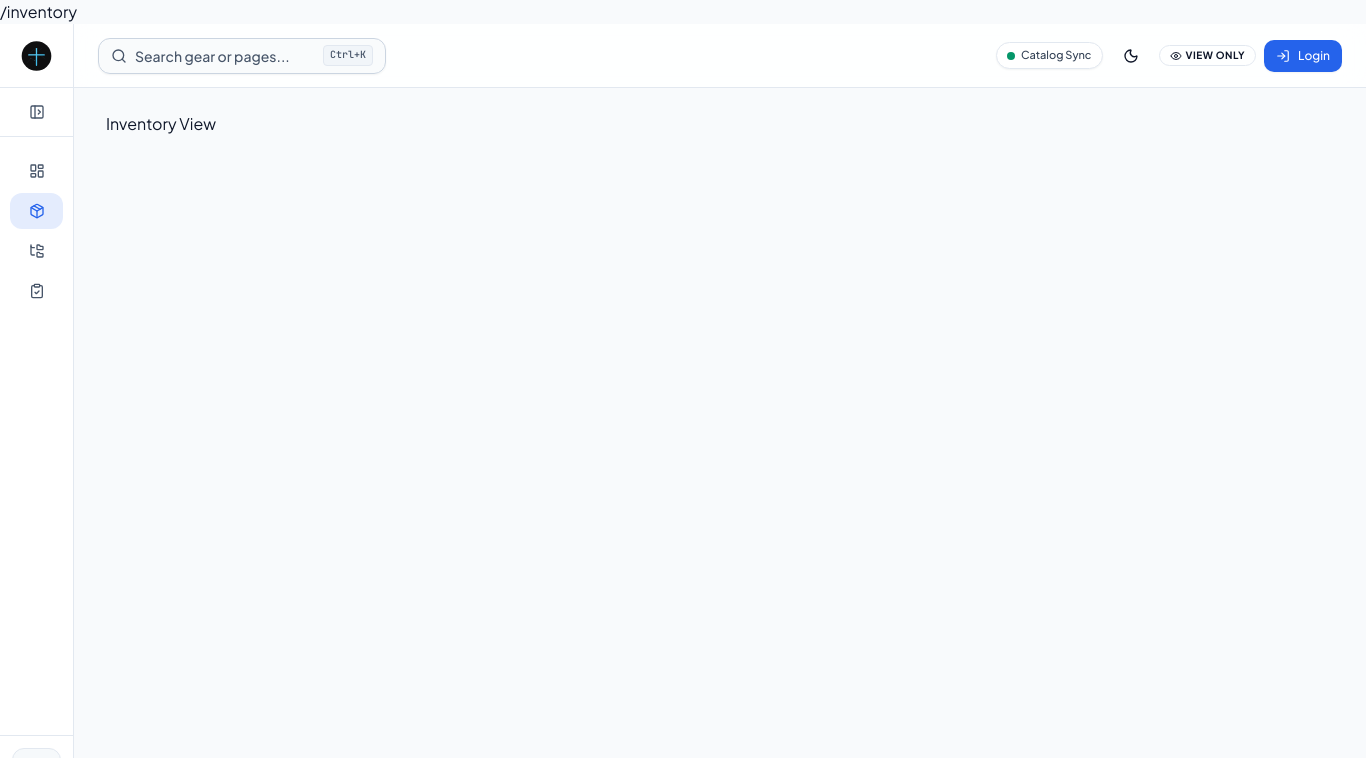
AppShell › persists sidebar collapse state, updates document.title on route change, and supports "/" shortcut only outside inputs
Earlier steps of the test are not shown.
Expected: the button named "Expand sidebar" is shown, [20,96,52,128]
Click the link named "go to dashboard": (36, 56) [20,38,53,74]
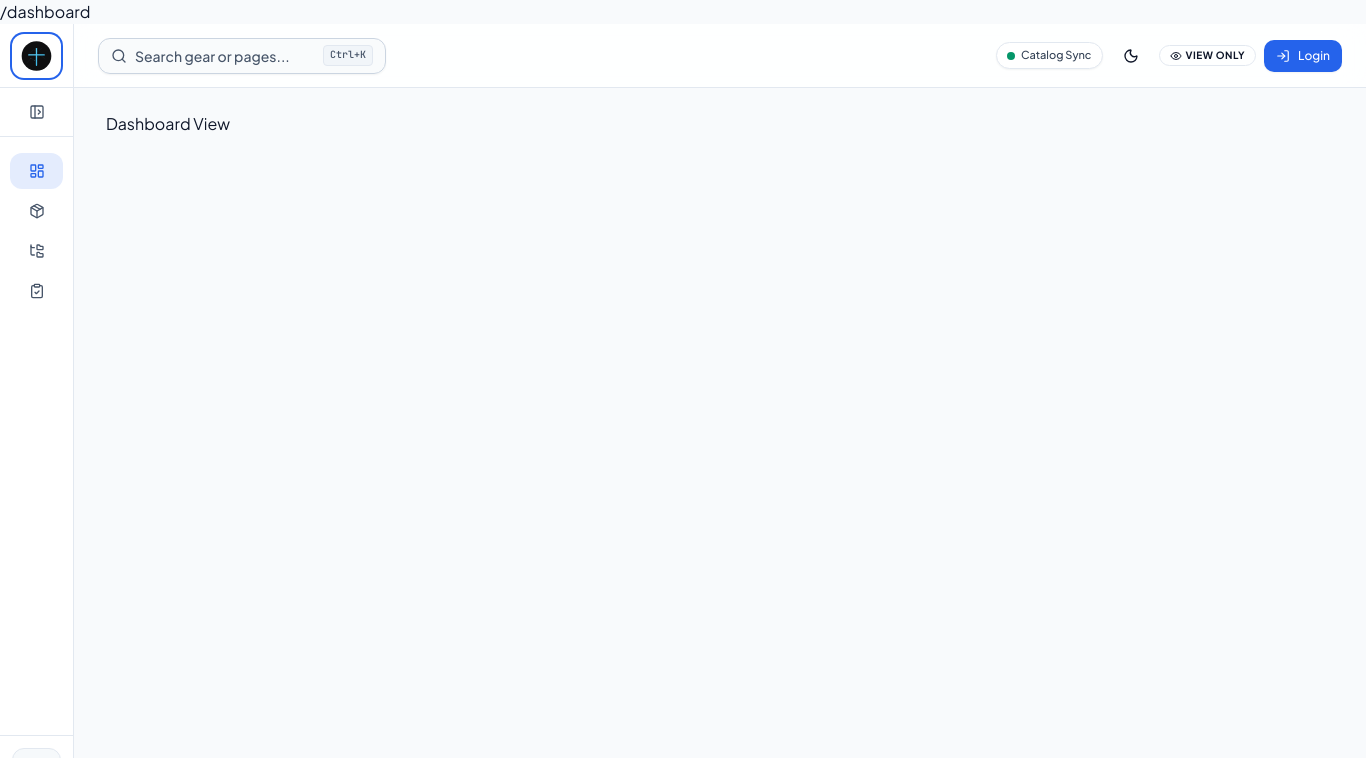
Expected: the text with test id "current-url" reads "/dashboard", [0,1,90,22]
Type keys "/"
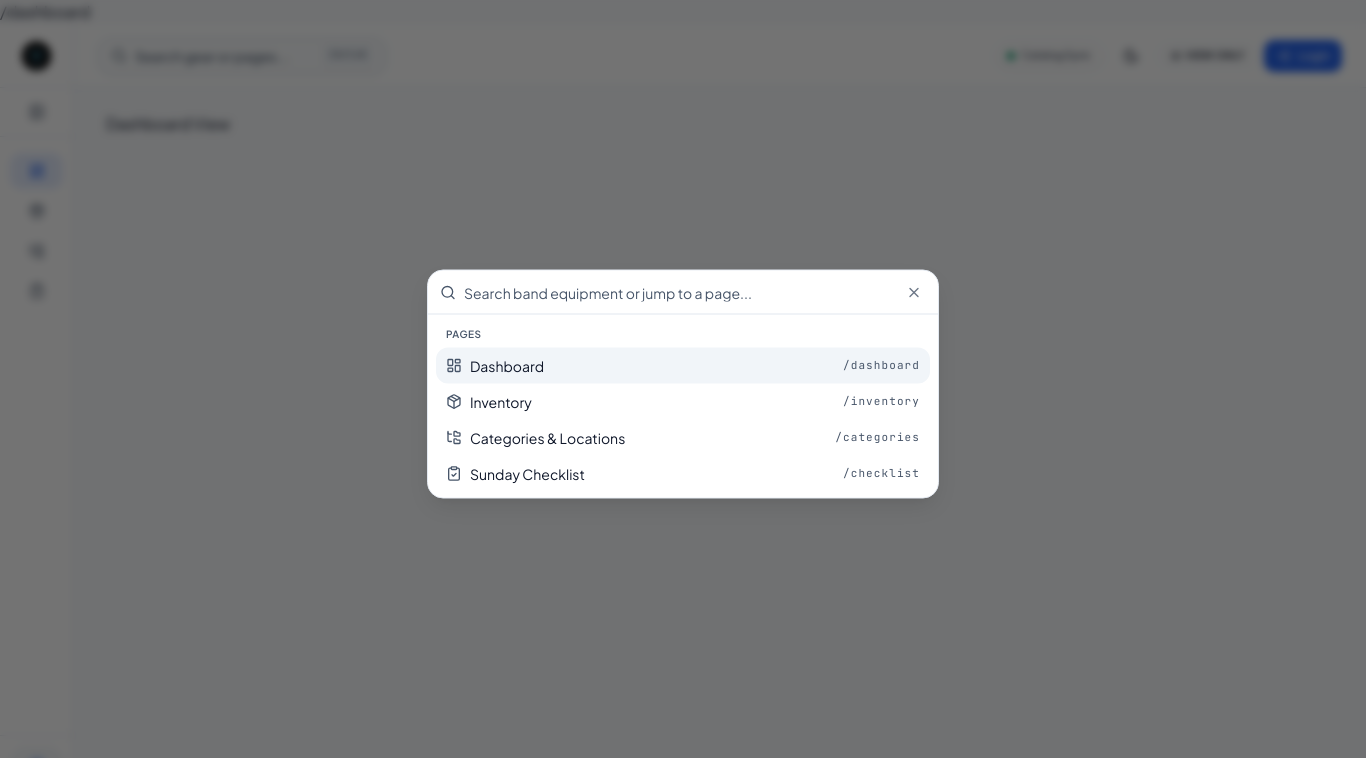
In the dropdown with placeholder "Search band equipment or jump to a page...": (679, 292) [464,270,894,314], type "a/b"
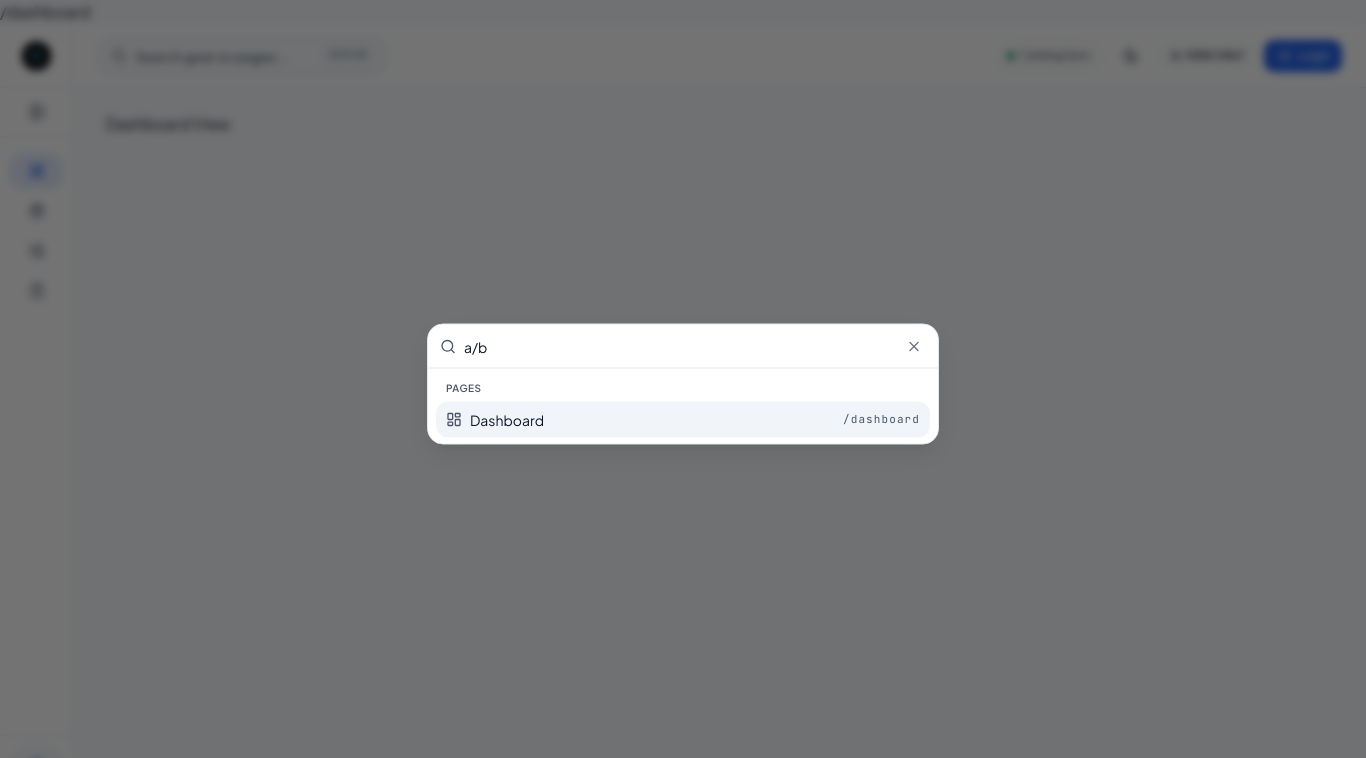
Expected: the dialog is shown, [427,324,939,444]
Press Escape
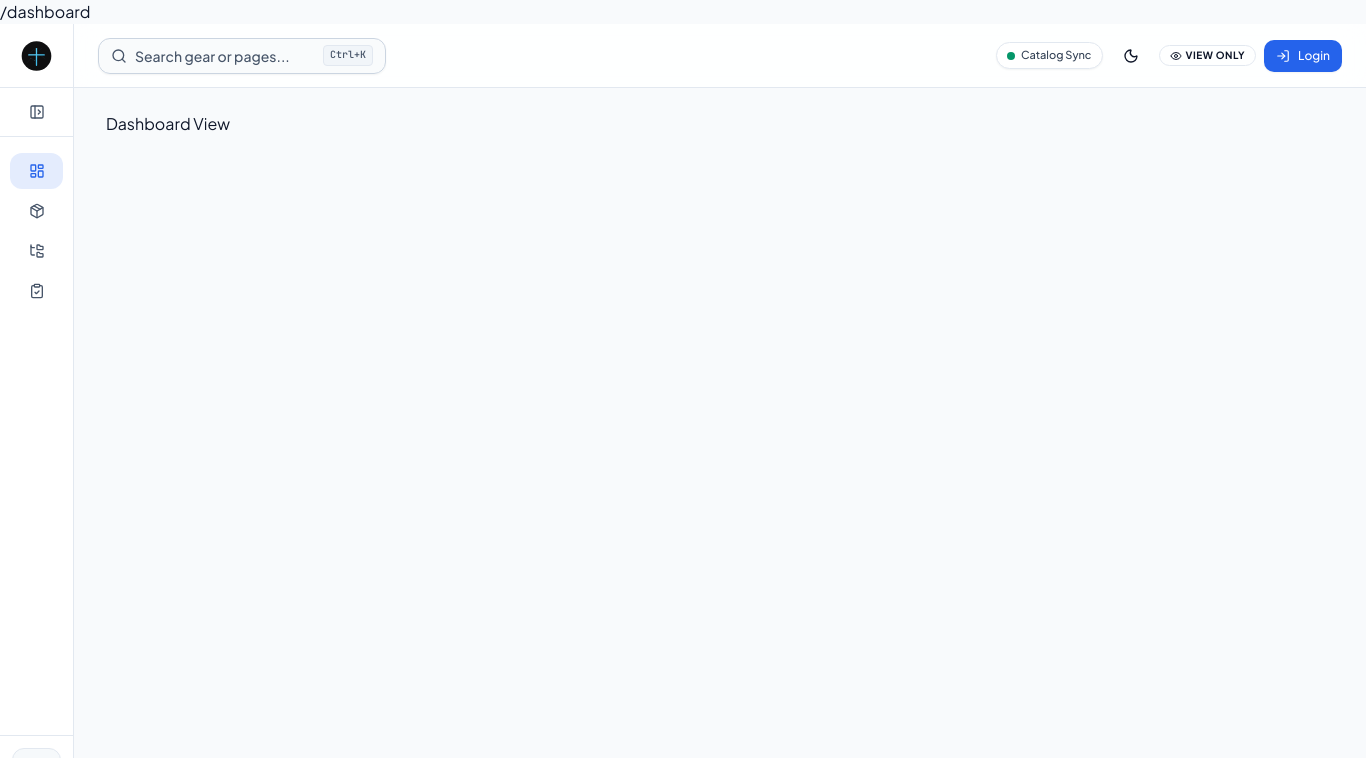
Expected: the dialog is gone
